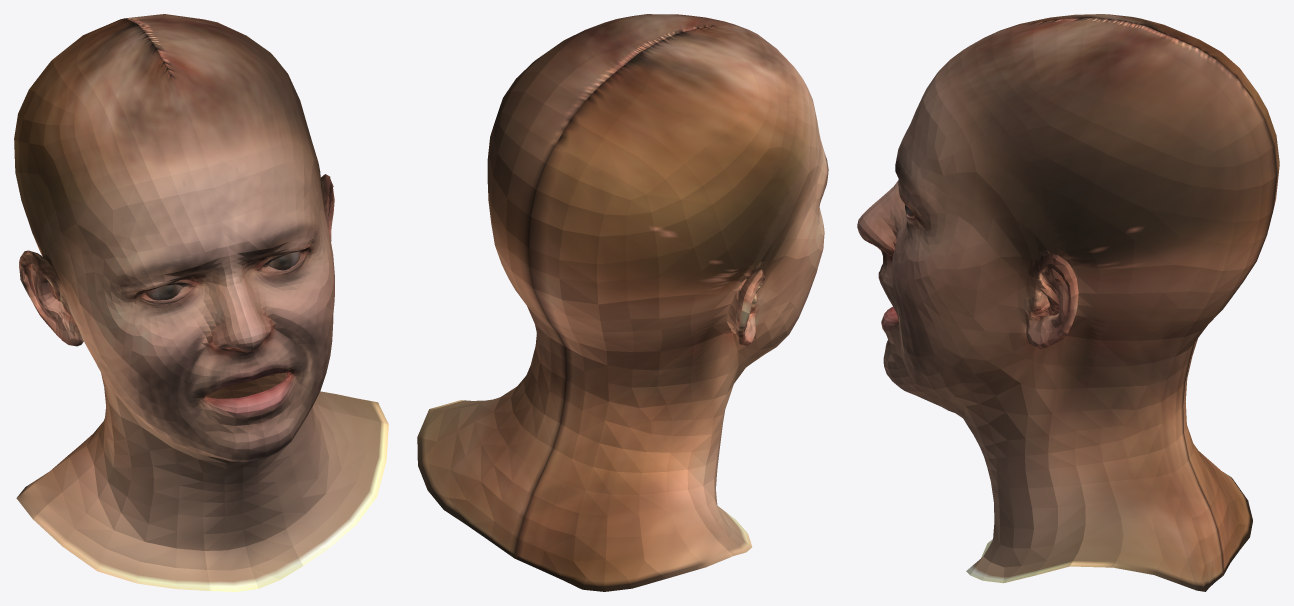
File: mesh_coarse.obj
The picture shows the model from 3 angles, left to right: view 1: azimuth 30°, elevation 25°; view 2: azimuth 150°, elevation 25°; view 3: azimuth 270°, elevation 25°; orthographic projection. The views are drawn at different scales.
Bounding box in the file's own units: 0.217 × 0.3122 × 0.2272.
